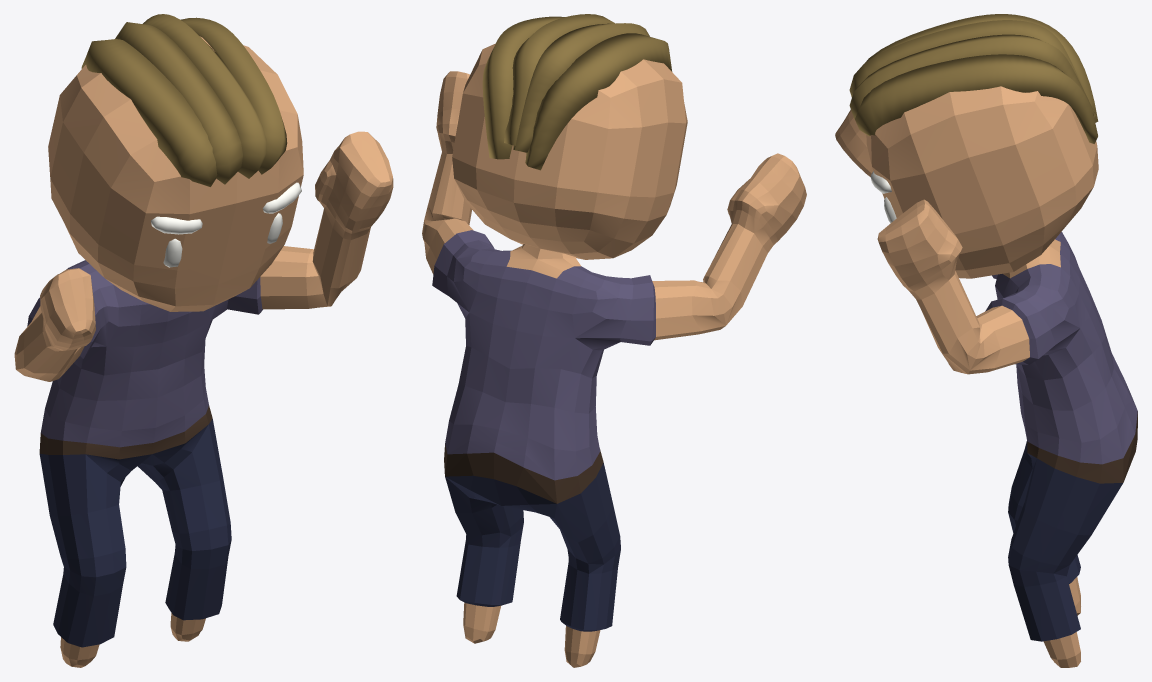
File: triste-homme.glb
3 renders of one model, left to right at view 1: azimuth 30°, elevation 25°; view 2: azimuth 150°, elevation 25°; view 3: azimuth 270°, elevation 25°, orthographic. The views are drawn at different scales.
Parts seen in each view (by area): view 1: Cube004, Cube004_2, Cube004_5, Cube004_1, Cube004_3, Cube004_4; view 2: Cube004, Cube004_1, Cube004_5, Cube004_2, Cube004_3; view 3: Cube004, Cube004_1, Cube004_5, Cube004_2, Cube004_3, Cube004_4.
Boxes of the visible parts, x1,y1,x2,y2 form: Cube004: (14, 36, 393, 667); Cube004_2: (39, 419, 231, 647); Cube004_5: (81, 14, 287, 186); Cube004_1: (27, 260, 262, 447); Cube004_3: (39, 405, 212, 459); Cube004_4: (150, 182, 301, 267); Cube004: (422, 43, 806, 667); Cube004_1: (432, 230, 655, 480); Cube004_5: (482, 14, 672, 170); Cube004_2: (445, 463, 620, 631); Cube004_3: (444, 444, 603, 503); Cube004: (835, 86, 1098, 667); Cube004_1: (985, 232, 1137, 464); Cube004_5: (849, 14, 1098, 143); Cube004_2: (1008, 441, 1122, 641); Cube004_3: (1027, 411, 1137, 483); Cube004_4: (870, 171, 896, 223).
Bounding box in the file's own units: 0.9907 × 1.7 × 0.7625.
